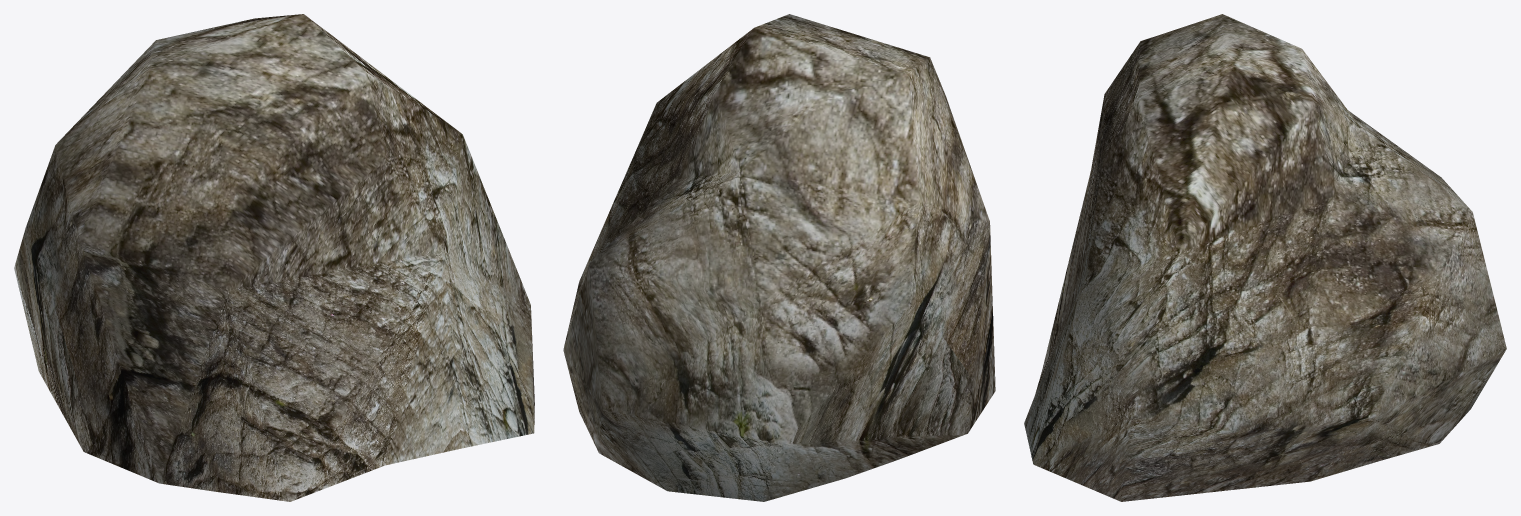
File: RockMesh.fbx
3 renders of one model, left to right at view 1: azimuth 30°, elevation 25°; view 2: azimuth 150°, elevation 25°; view 3: azimuth 270°, elevation 25°, orthographic. The views are drawn at different scales.
Parts seen in each view (by area): view 1: RockMesh; view 2: RockMesh; view 3: RockMesh.
Part boxes in pixels (box(x1,y1,x2,y2)): RockMesh: box(14, 14, 534, 501); RockMesh: box(563, 14, 995, 501); RockMesh: box(1024, 14, 1506, 501).
Bounding box in the file's own units: 4.33 × 3.87 × 4.77.
